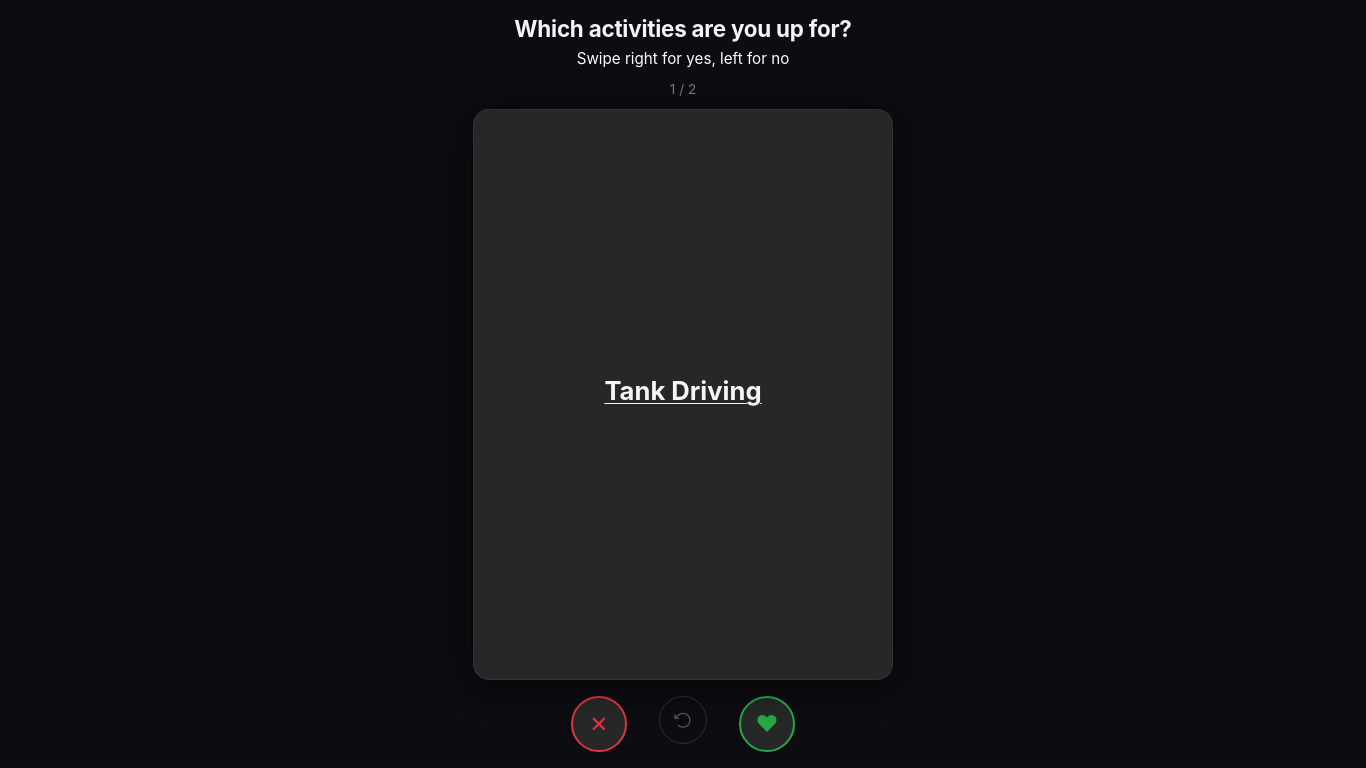
Scenario: after the last card the friend reviews, recommends and sends once; then only the thank-you
This screenshot has width=1366, height=768.
Click the button named "Like": (767, 724) [739,696,795,752]
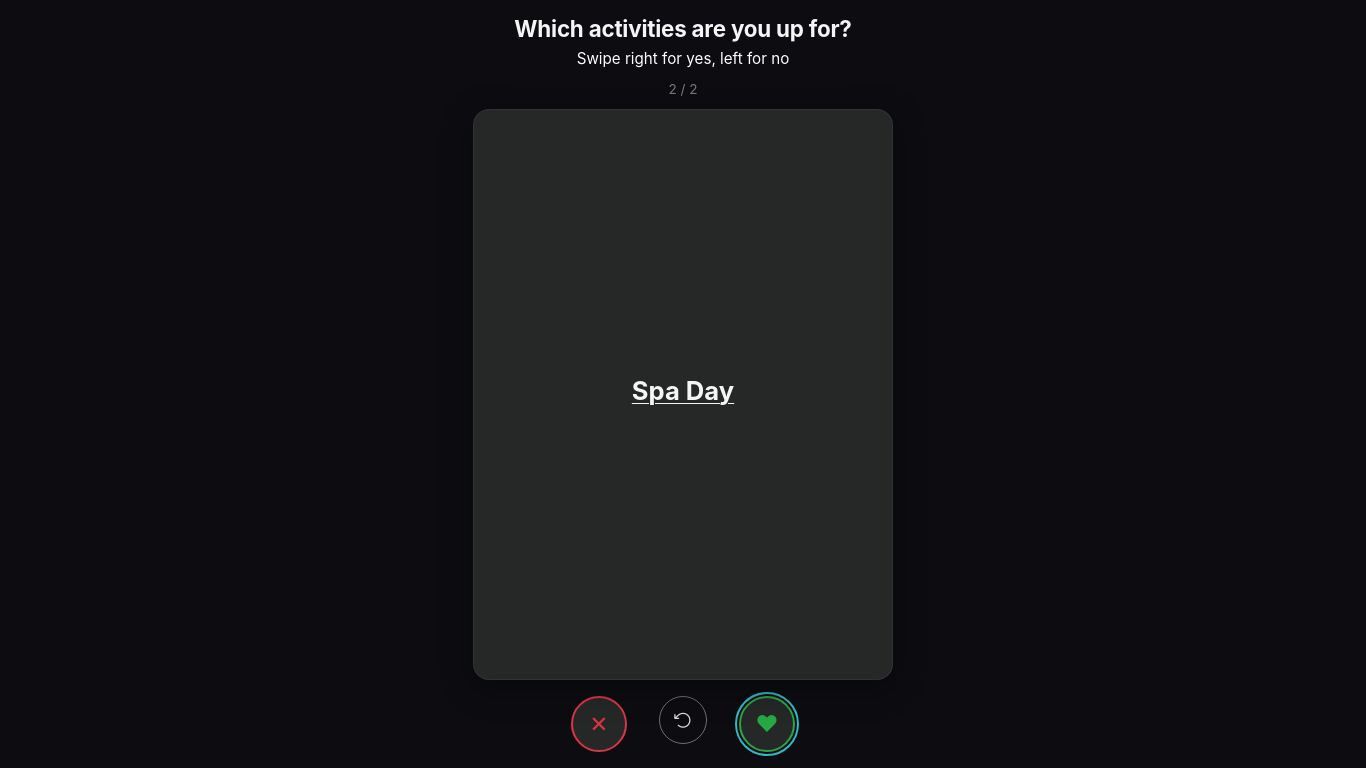
Click the button named "Dislike": (599, 724) [571,696,627,752]
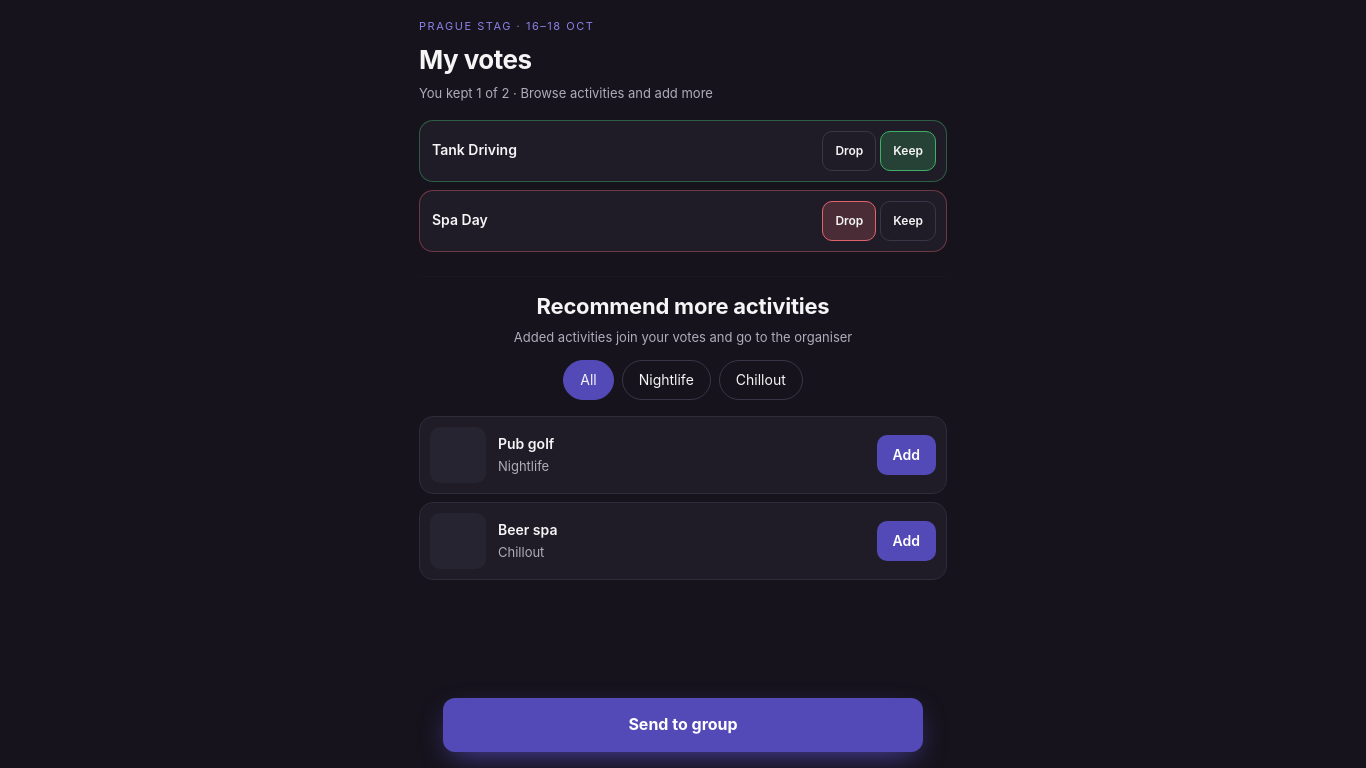
Result: the heading "My votes" is shown at [419,44,532,75]
Result: the text "Prague stag · 16–18 Oct" is shown at [419,19,594,33]
Result: the text "You kept 1 of 2 · Browse activities and add more" is shown at [419,85,713,101]
Click the button "Keep" in the row of "Spa Day": (908, 221) [880,201,936,241]
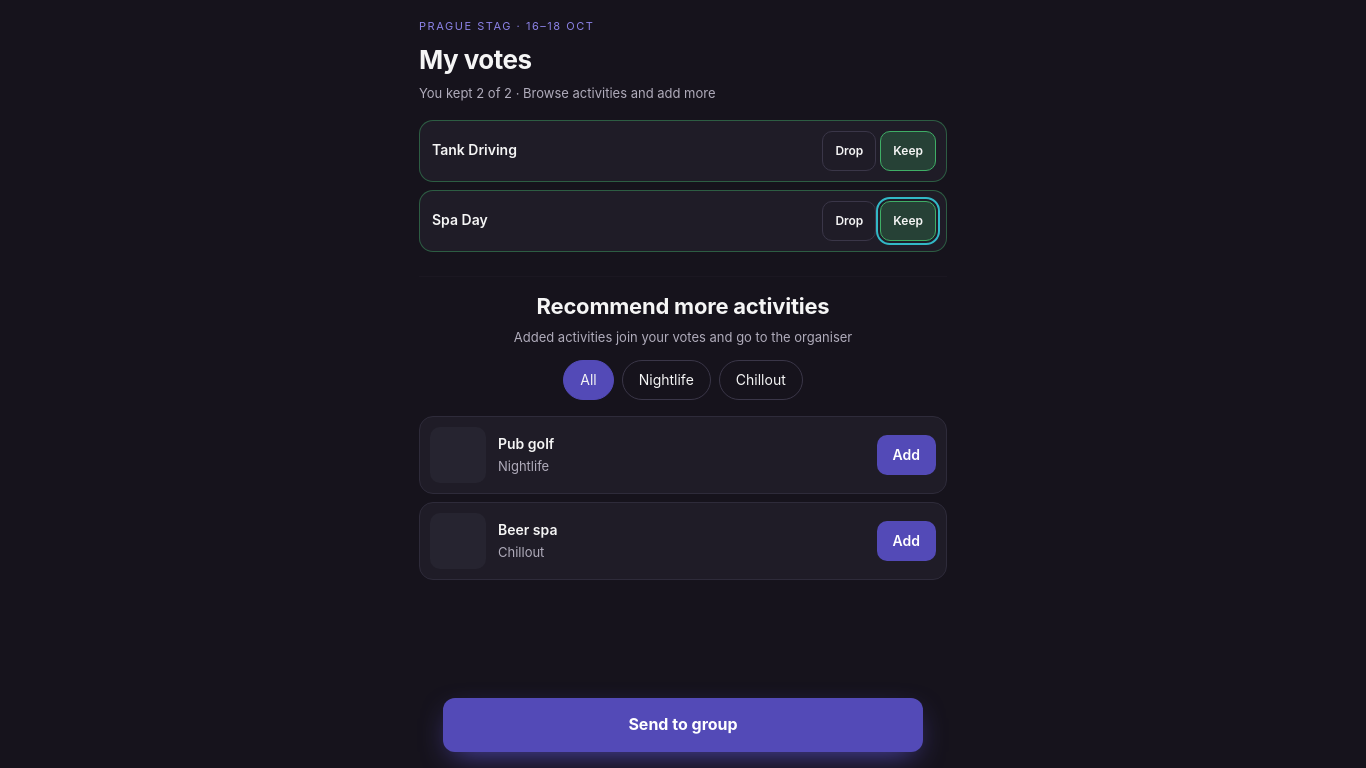
Click the button with aria-label "Add Pub golf": (906, 455) [876,435,936,475]
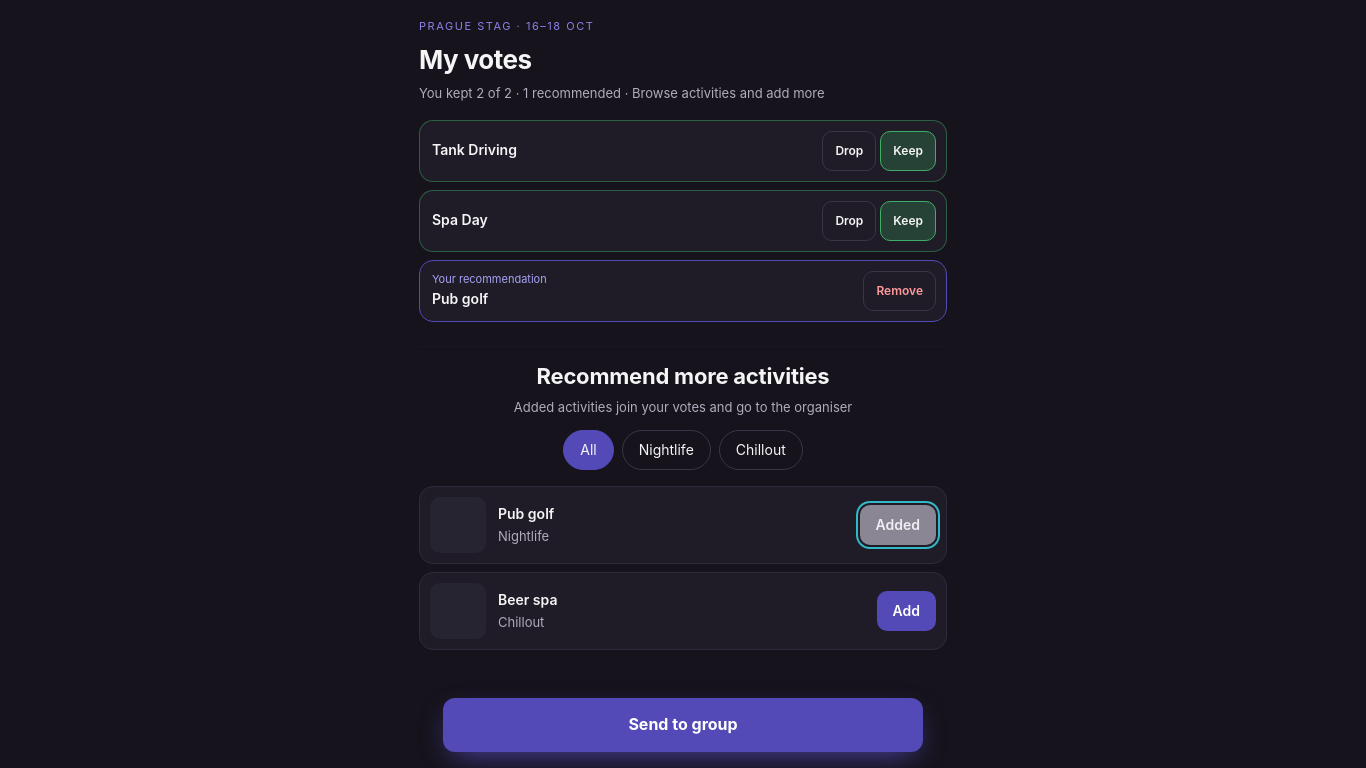
Result: the text "You kept 2 of 2 · 1 recommended · Browse activities and add more" is shown at [419,85,825,101]
Result: the text "Your recommendation" is shown at [432,271,547,288]
Click the button "Send to group": (683, 725) [443,698,923,752]
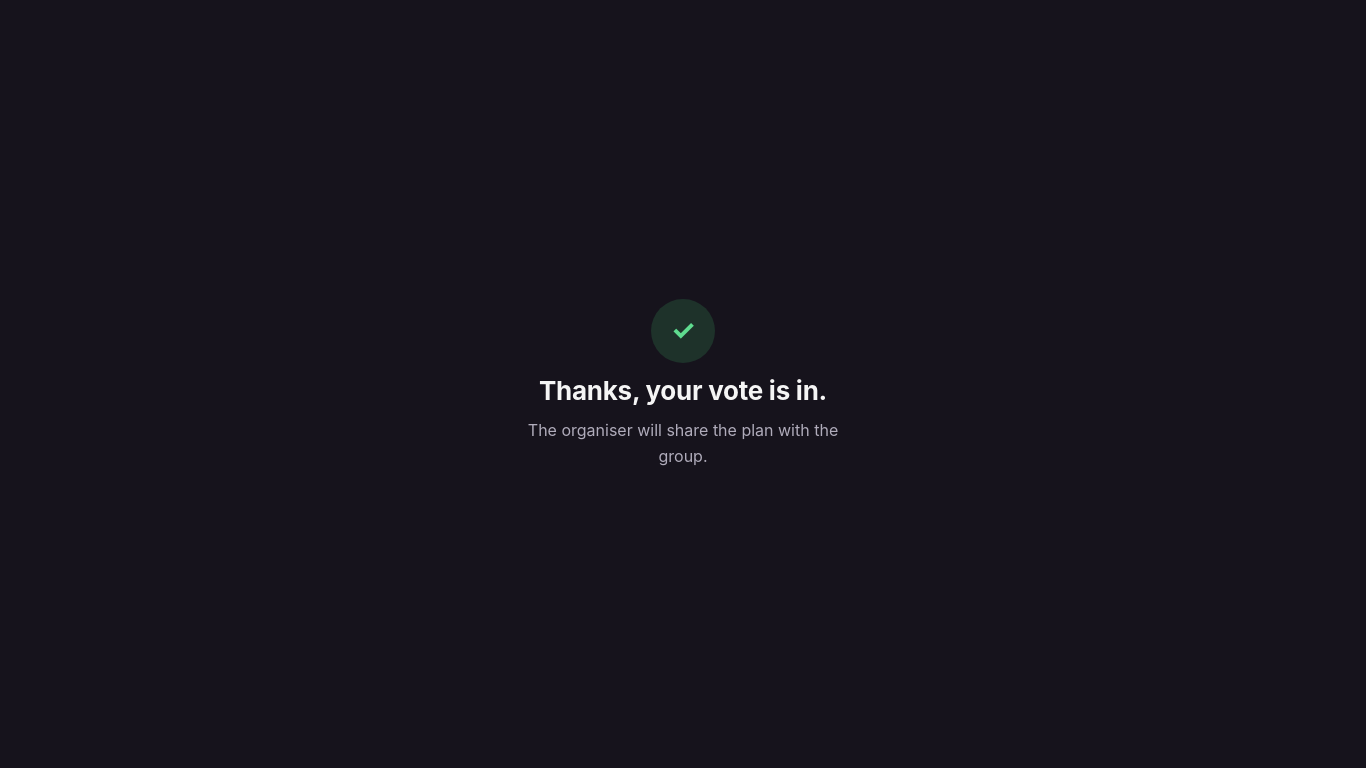
Result: the heading "Thanks, your vote is in." is shown at [539,375,827,406]
